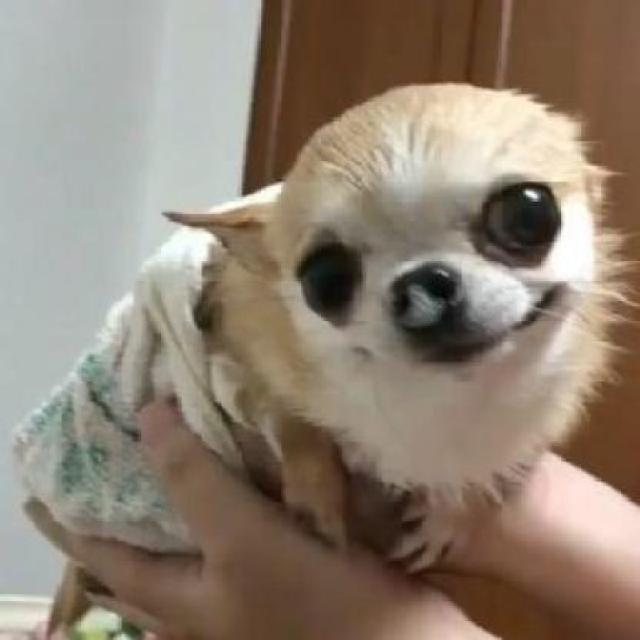animals: (61, 69, 638, 640)
